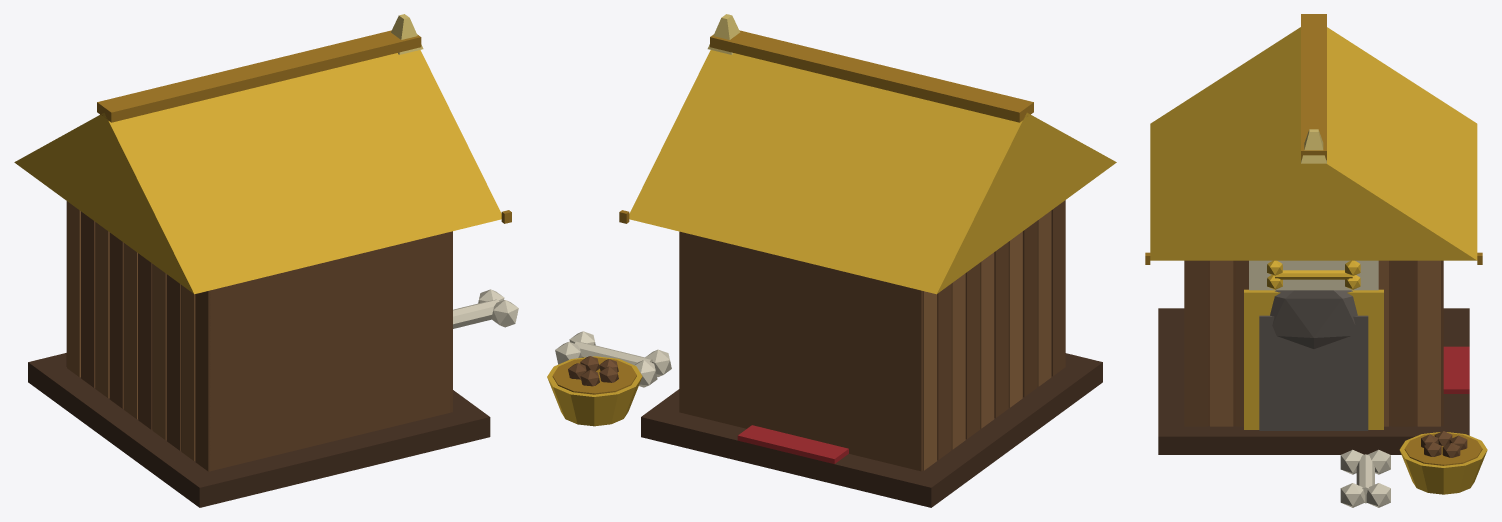
The model's file is Decor_DogeAltar_Kennel.fbx.
3 renders of one model, left to right at view 1: azimuth 30°, elevation 25°; view 2: azimuth 150°, elevation 25°; view 3: azimuth 270°, elevation 25°, orthographic. The views are drawn at different scales.
Visible parts, largest first — view 1: Kennel_Body; view 2: Kennel_Body; view 3: Kennel_Body.
Boxes of the visible parts, left/top/right/bottom form: Kennel_Body: left=14, top=14, right=518, bottom=507; Kennel_Body: left=547, top=14, right=1116, bottom=507; Kennel_Body: left=1145, top=14, right=1487, bottom=507.
Bounding box in the file's own units: 17.3 × 13.62 × 13.03.
